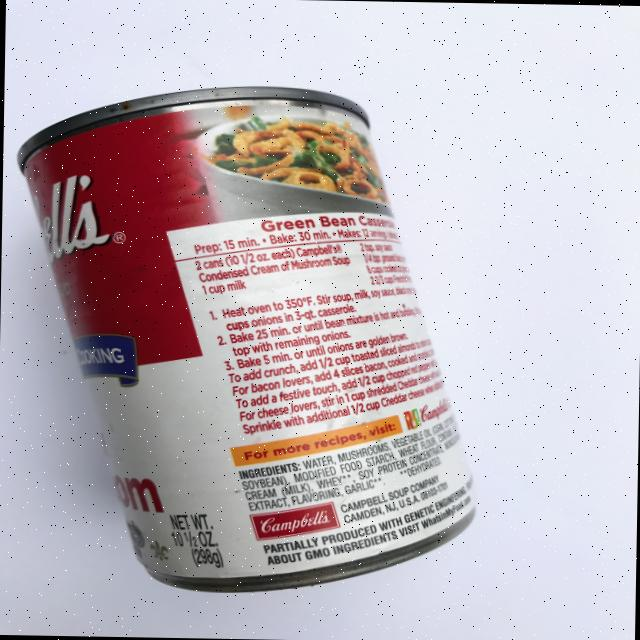metal: (8, 80, 484, 596)
